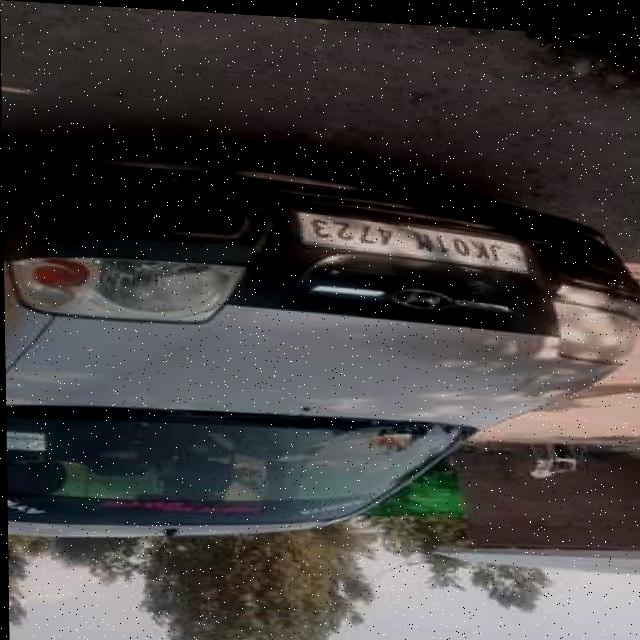plate: (298, 206, 527, 266)
